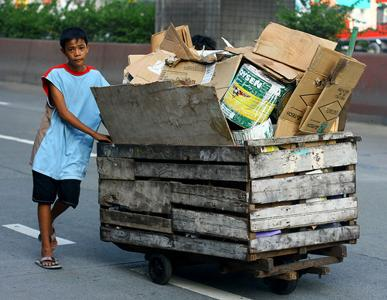person: (28, 27, 112, 268)
